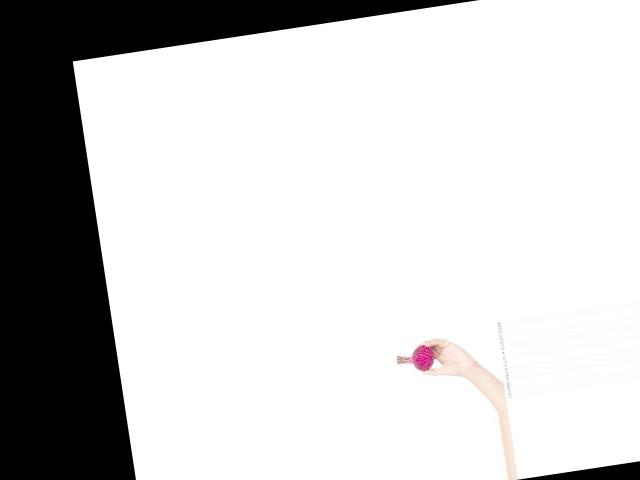beet: (394, 343, 436, 374)
